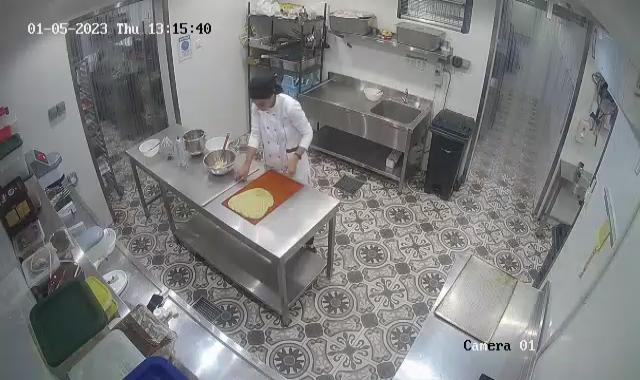no_hairnet: (245, 76, 280, 102)
